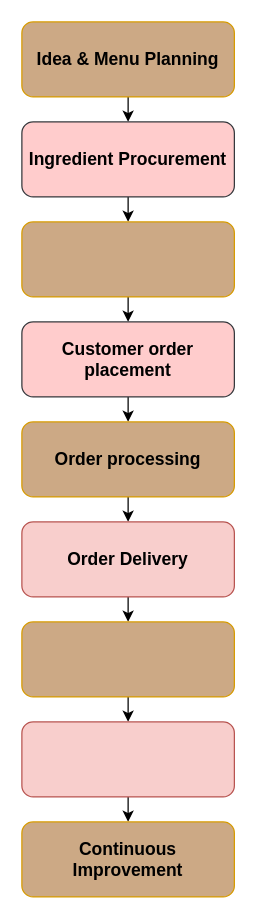
Some shapes in this 256 by 919 pixel diagram are drawn without their labels. Each missing label, with the box of its shape:
Cleanup& Closing: (21, 721, 234, 797)
Feedback & Review: (21, 621, 234, 697)
Preparation & Setup: (21, 221, 234, 297)
